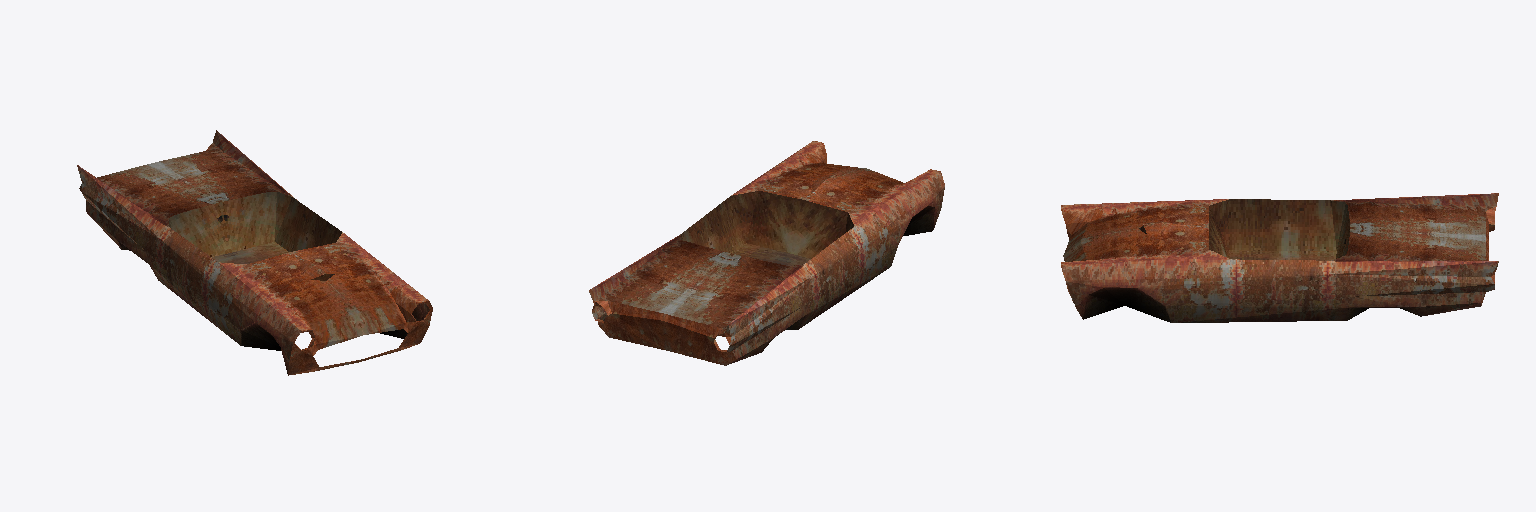
3 views of the same model, side by side, from view 1: azimuth 30°, elevation 25°; view 2: azimuth 150°, elevation 25°; view 3: azimuth 270°, elevation 25° (orthographic).
Visible parts, largest first — view 1: Car0; view 2: Car0; view 3: Car0.
Part boxes in pixels (bbox=[...]): Car0: bbox=[77, 130, 432, 375]; Car0: bbox=[589, 141, 944, 365]; Car0: bbox=[1061, 193, 1498, 322].
Size of the model in its own units: 13.82 by 6.09 by 35.95.
1 materials, 1 textured.